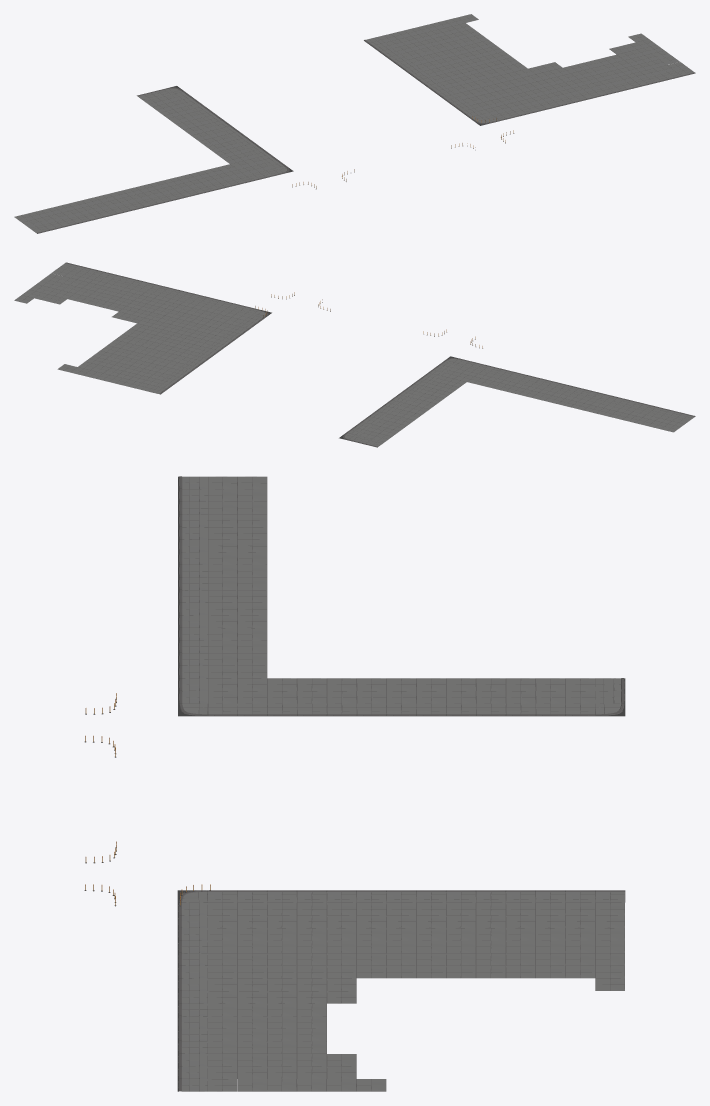
The model's file is Sidewalks.glb.
3 views of the same model, one above another, from view 1: azimuth 30°, elevation 25°; view 2: azimuth 150°, elevation 25°; view 3: azimuth 270°, elevation 25° (orthographic). The views are drawn at different scales.
Bounding box in the file's own units: 244 × 1.32 × 90.65.
Materials: 1 (1 with a texture image).
